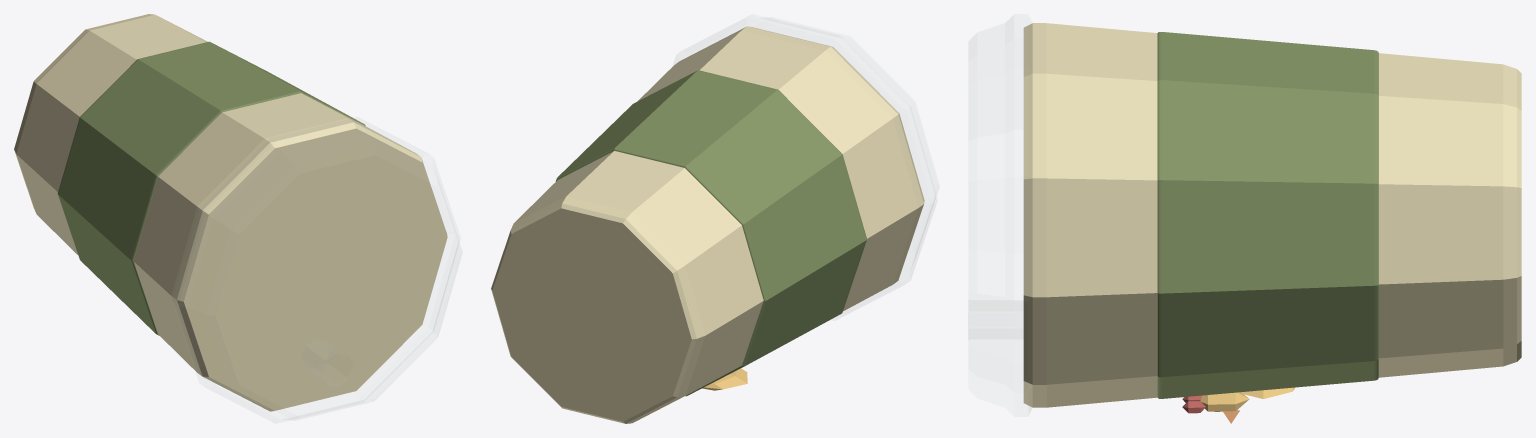
File: chicken_soup.glb
3 views of the same model, side by side, from view 1: azimuth 30°, elevation 25°; view 2: azimuth 150°, elevation 25°; view 3: azimuth 270°, elevation 25° (orthographic). The views are drawn at different scales.
Visible parts, largest first — view 1: chicken_soup; view 2: chicken_soup; view 3: chicken_soup.
Part boxes in pixels (x1=…): chicken_soup: x1=14, y1=14, x2=459, y2=420; chicken_soup: x1=491, y1=17, x2=936, y2=423; chicken_soup: x1=968, y1=23, x2=1521, y2=423.
Size of the model in its own units: 0.088 by 0.0837 by 0.12.
